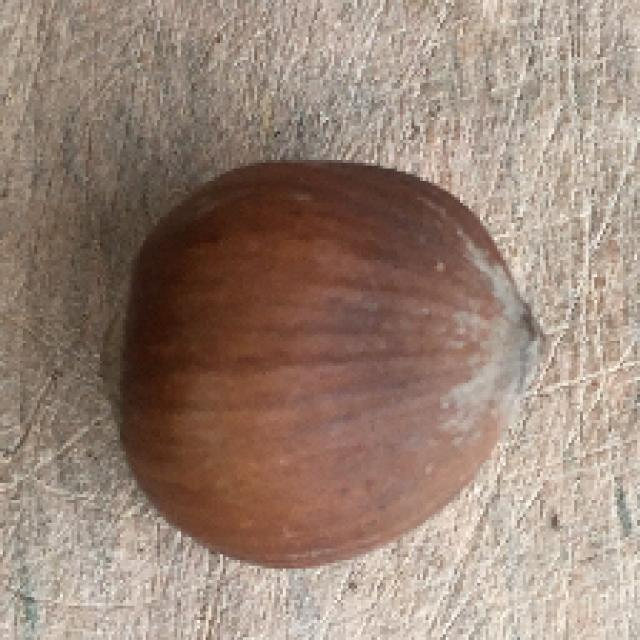qualityHazelnut: (92, 156, 544, 561)
